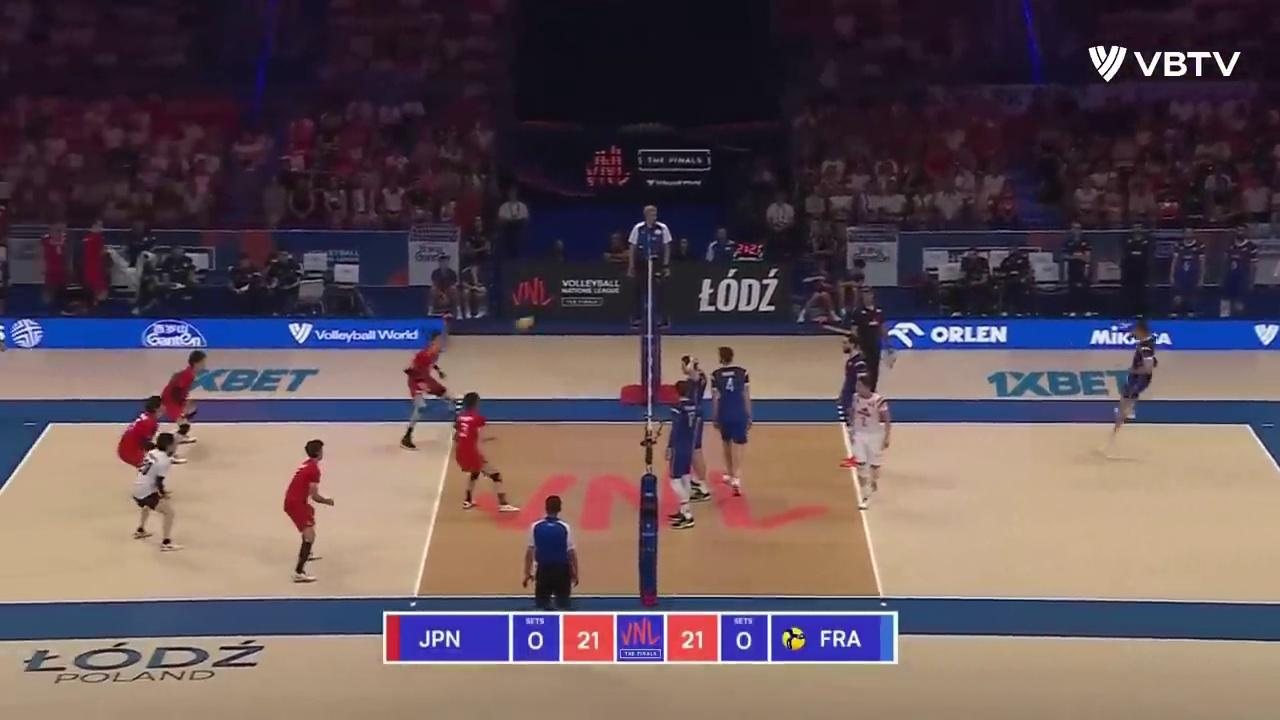ball: (514, 317, 533, 329)
